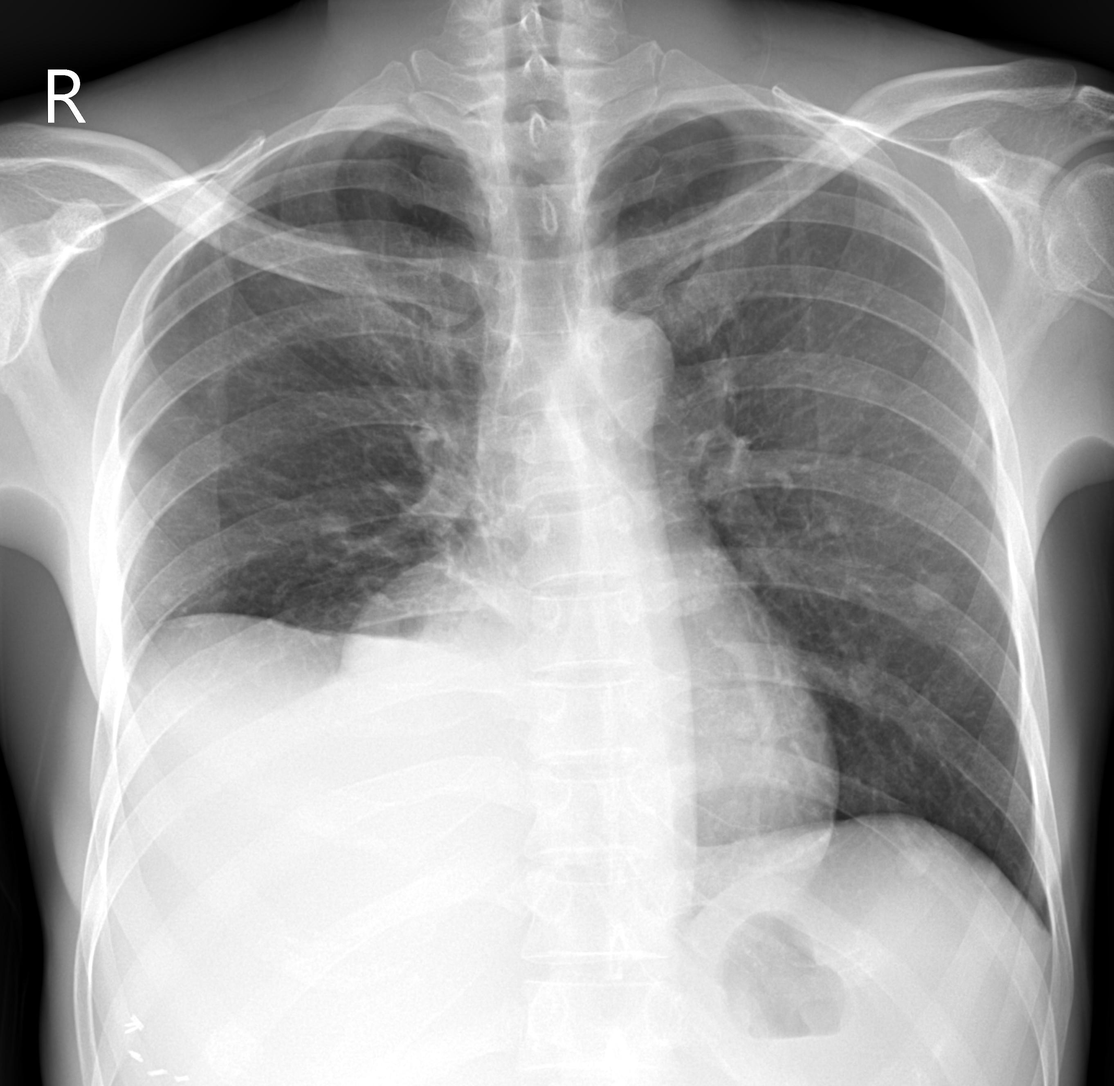Pleural thickening: (225, 126, 476, 182)
